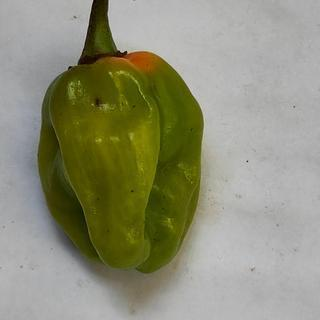Fly-bites: (89, 91, 105, 114), (129, 99, 143, 115), (127, 184, 140, 197)
